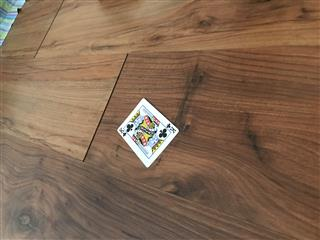KingOfClubs: (116, 97, 180, 169)
